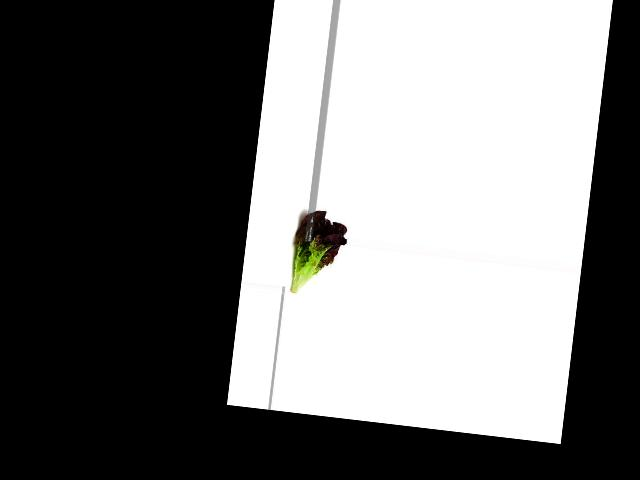lettuce: (284, 205, 350, 301)
